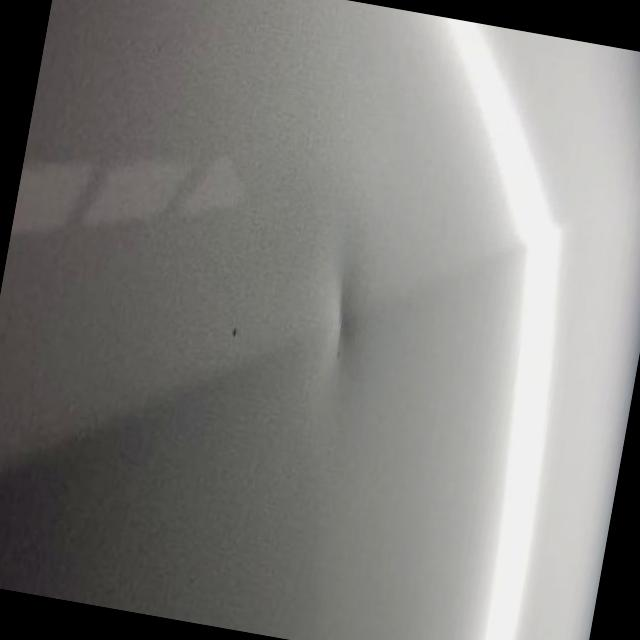dent: (326, 253, 350, 379)
